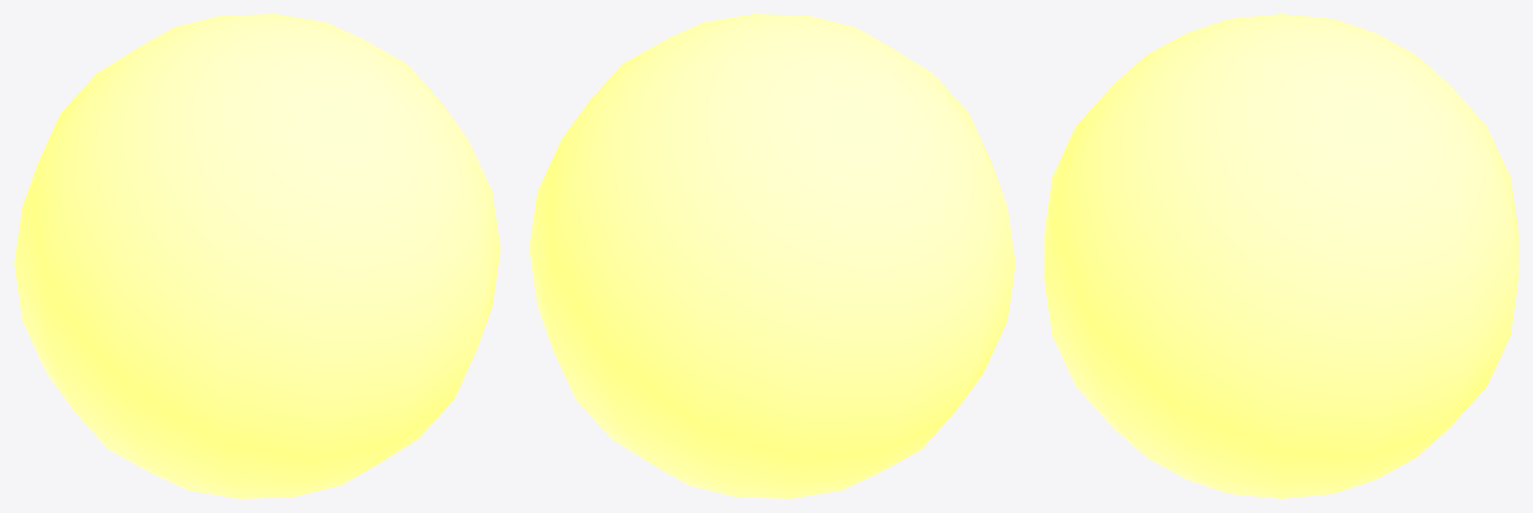
Rendered from khamot.glb.
3 renders of one model, left to right at view 1: azimuth 30°, elevation 25°; view 2: azimuth 150°, elevation 25°; view 3: azimuth 270°, elevation 25°, orthographic.
Size of the model in its own units: 0.56 by 0.56 by 0.546.
